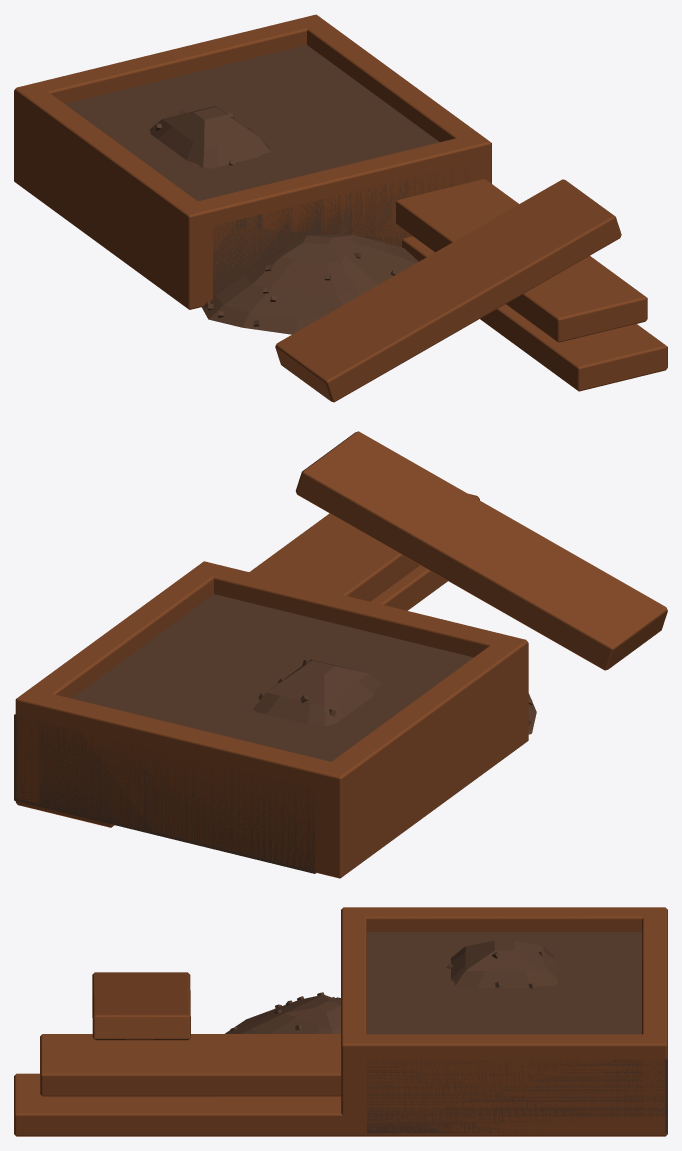
Rendered from RaisedBed.glb.
The picture shows the model from 3 angles, top to bottom: view 1: azimuth 30°, elevation 25°; view 2: azimuth 150°, elevation 25°; view 3: azimuth 270°, elevation 25°; orthographic projection. The views are drawn at different scales.
Visible parts, largest first — view 1: Raised Bed O, Raised Bed I Construction, Raised Bed I, Raised Bed L; view 2: Raised Bed O, Raised Bed I, Raised Bed I Construction, Raised Bed L, Raised Bed U; view 3: Raised Bed I Construction, Raised Bed O, Raised Bed L, Raised Bed I, Raised Bed U.
Part boxes in pixels (x1,y1,x2,y2): Raised Bed O: (14, 14, 491, 309); Raised Bed I Construction: (149, 106, 667, 402); Raised Bed I: (14, 15, 490, 309); Raised Bed L: (14, 16, 380, 216); Raised Bed O: (15, 561, 528, 878); Raised Bed I: (16, 562, 528, 876); Raised Bed I Construction: (15, 431, 667, 827); Raised Bed L: (14, 647, 510, 873); Raised Bed U: (73, 617, 364, 757); Raised Bed I Construction: (14, 940, 667, 1136); Raised Bed O: (341, 907, 667, 1130); Raised Bed L: (367, 907, 667, 1133); Raised Bed I: (341, 907, 667, 1130); Raised Bed U: (367, 932, 641, 1133).
Size of the model in its own units: 1 by 0.3964 by 2.
